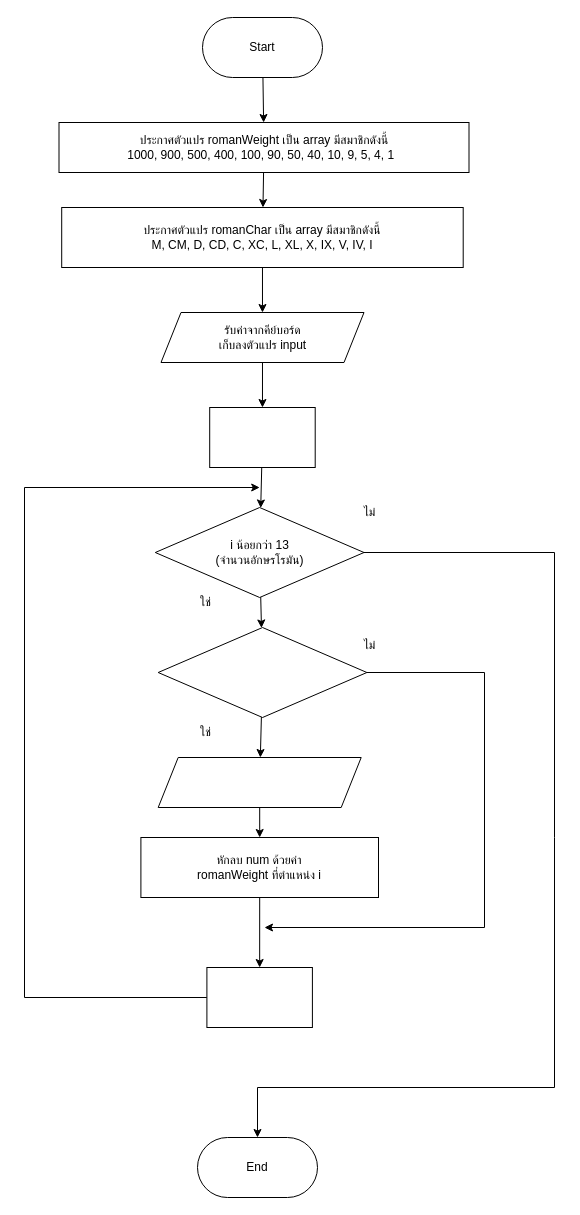
Some shapes in this 580 by 1215 pixel diagram are drawn without their labels. The centre of each missing label's shape, as x and y in pixels:
i = 0: [262,437]
i++: [259,997]
num มากกว่าหรือเท่ากับ romanWeight ที่ตำแหน่ง i: [262,672]
แสดงผลลัพธ์ romanChar ที่ตำแหน่ง i: [259,782]
